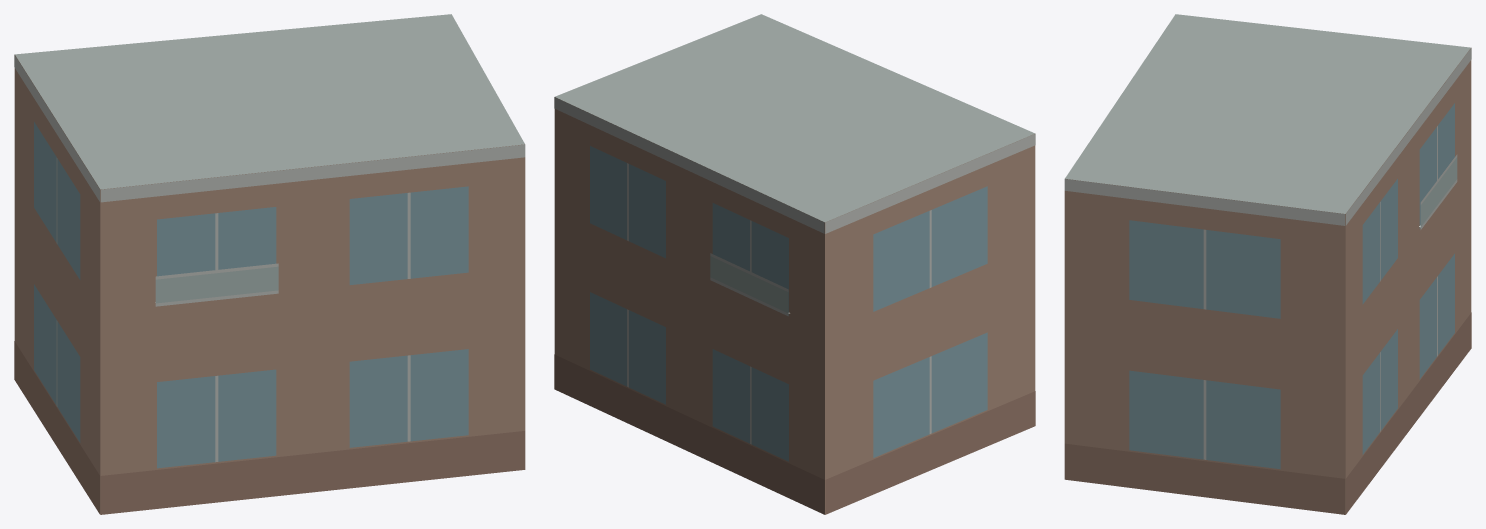
The model's file is survey-upis-32870593.glb.
3 renders of one model, left to right at view 1: azimuth 30°, elevation 25°; view 2: azimuth 150°, elevation 25°; view 3: azimuth 270°, elevation 25°, orthographic. The views are drawn at different scales.
Visible parts, largest first — view 1: survey-upis-32870593.tmp; view 2: survey-upis-32870593.tmp; view 3: survey-upis-32870593.tmp.
Boxes of the visible parts, x1,y1,x2,y2 form: survey-upis-32870593.tmp: (14,14,525,514); survey-upis-32870593.tmp: (554,14,1035,514); survey-upis-32870593.tmp: (1064,14,1471,514).
Bounding box in the file's own units: 8.71 × 6.1 × 7.48.
